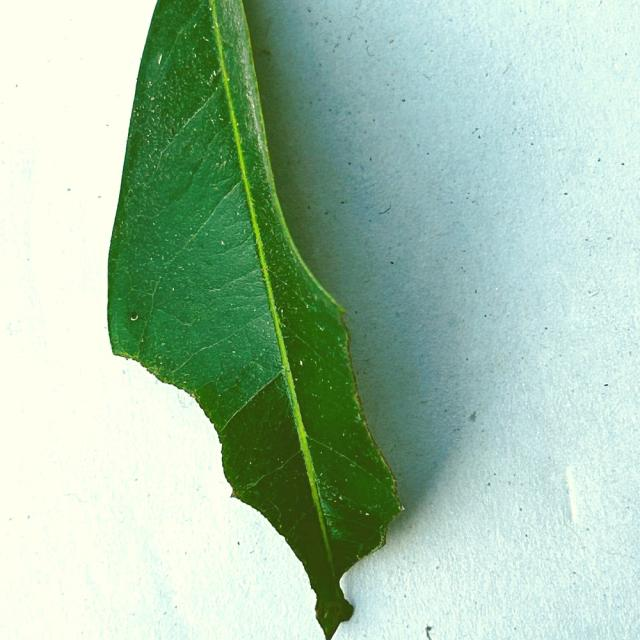Deficiency Leaf: (103, 362, 323, 637)
Lychee: (108, 0, 399, 630)
